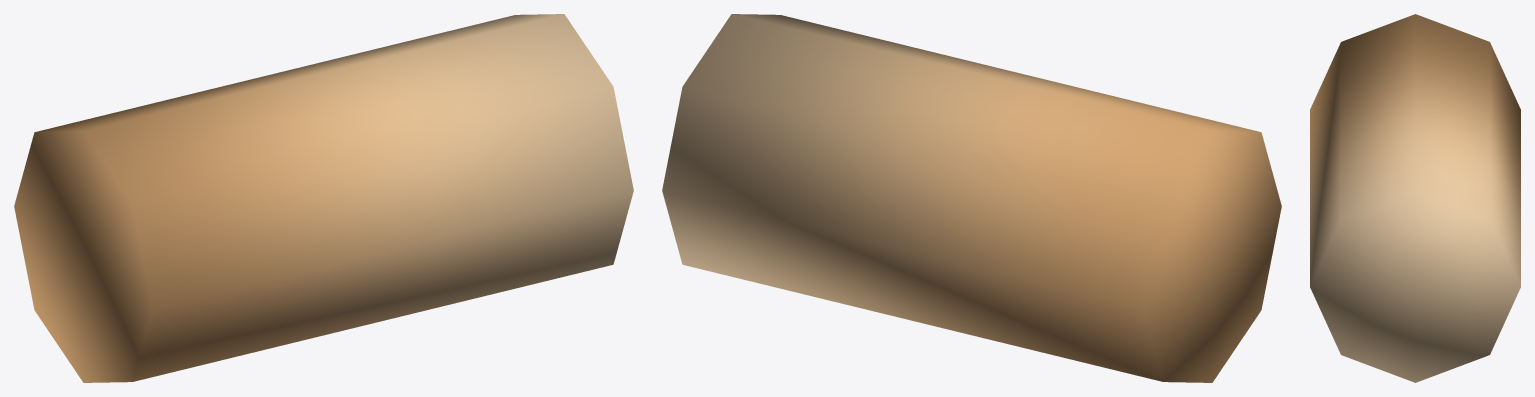
File: bridgeRope.fbx
3 renders of one model, left to right at view 1: azimuth 30°, elevation 25°; view 2: azimuth 150°, elevation 25°; view 3: azimuth 270°, elevation 25°, orthographic. The views are drawn at different scales.
Parts seen in each view (by area): view 1: bridgeRope; view 2: bridgeRope; view 3: bridgeRope.
Part boxes in pixels (x1,y1,x2,y2): bridgeRope: (14,14,633,382); bridgeRope: (662,14,1281,382); bridgeRope: (1310,14,1520,382).
Bounding box in the file's own units: 0.4 × 0.2 × 0.2.
